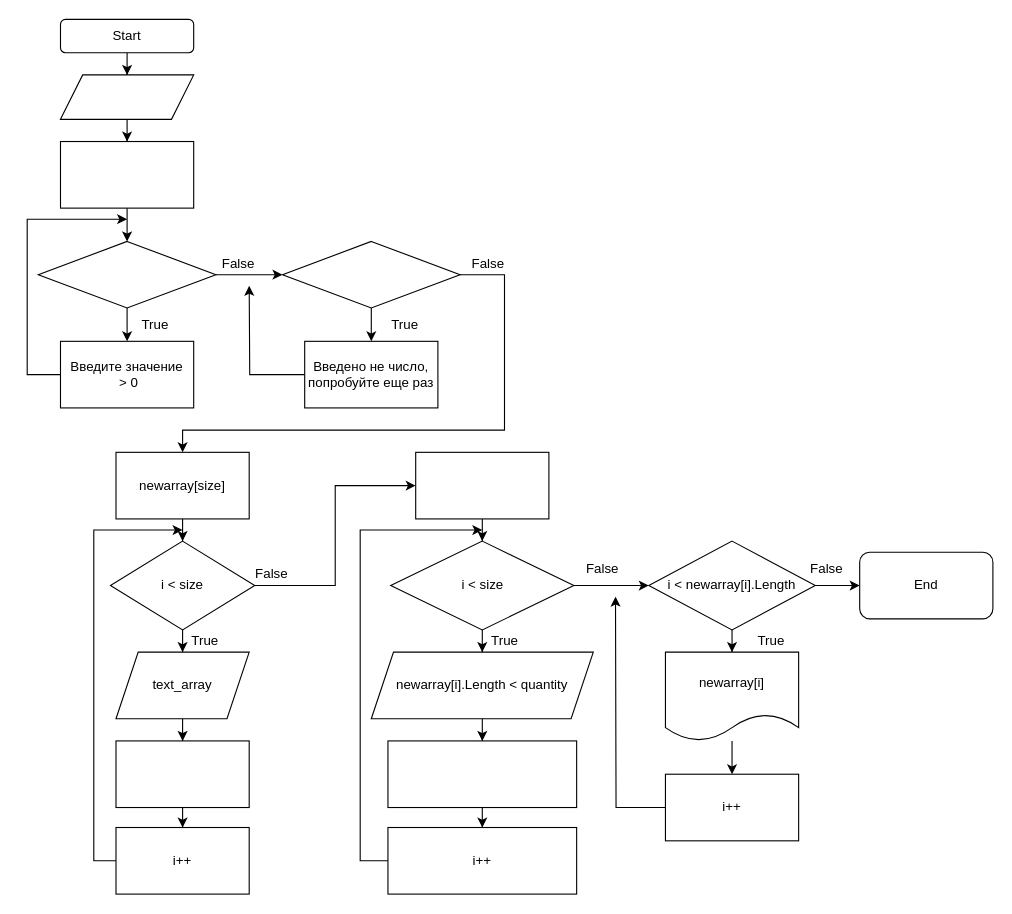
The diagram is 1012 pixels wide and 914 high, and some of its shapes have lost their labels. The shapes that lost their labels are listed below. From the top down, each one's centre as x and y in pixels, then its label:
At point 126,96: "size".
At point 126,174: "quantity = 4".
At point 126,274: "size < 1".
At point 370,274: "size = symbol".
At point 482,485: "array_two[size]".
At point 182,774: "newarray[i] = text_array".
At point 482,774: "array_two[i] = newarray[i]".
